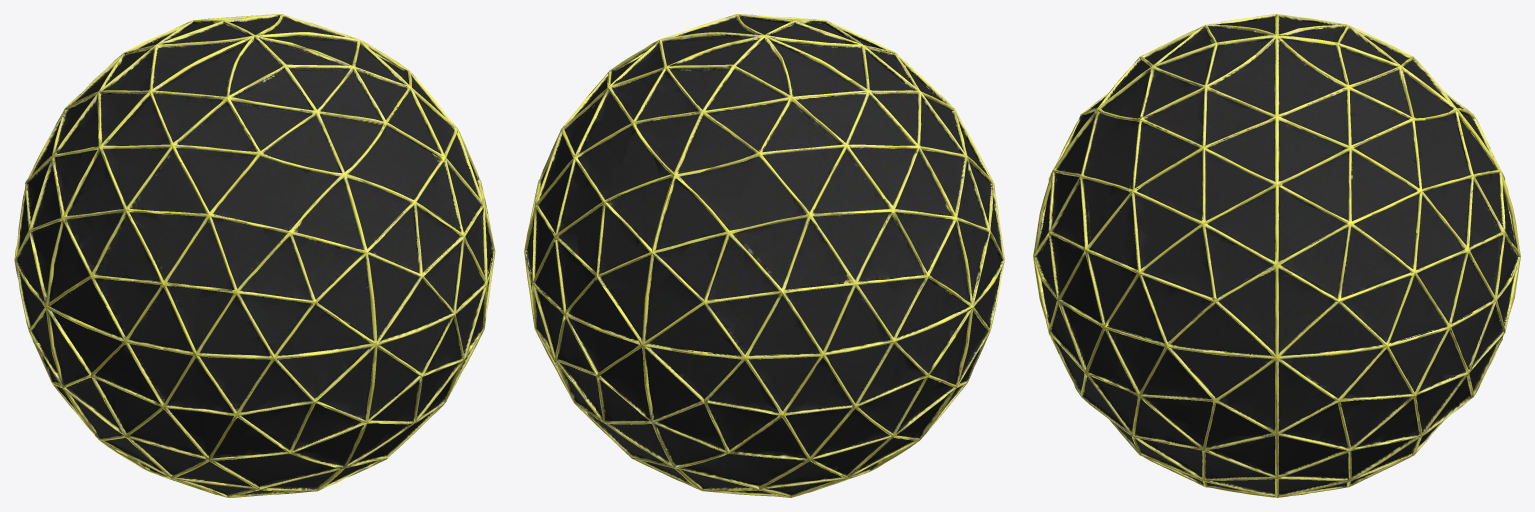
The model's file is EsferaAmarilla.glb.
3 renders of one model, left to right at view 1: azimuth 30°, elevation 25°; view 2: azimuth 150°, elevation 25°; view 3: azimuth 270°, elevation 25°, orthographic.
Visible parts, largest first — view 1: tripo_node_479498b6-8176-4c18-be62-1d234385307a; view 2: tripo_node_479498b6-8176-4c18-be62-1d234385307a; view 3: tripo_node_479498b6-8176-4c18-be62-1d234385307a.
Boxes of the visible parts, x1,y1,x2,y2 form: tripo_node_479498b6-8176-4c18-be62-1d234385307a: [14, 14, 495, 497]; tripo_node_479498b6-8176-4c18-be62-1d234385307a: [524, 14, 1004, 497]; tripo_node_479498b6-8176-4c18-be62-1d234385307a: [1033, 14, 1520, 497].
Bounding box in the file's own units: 0.9725 × 0.9806 × 0.9807.
1 material, 1 textured.
